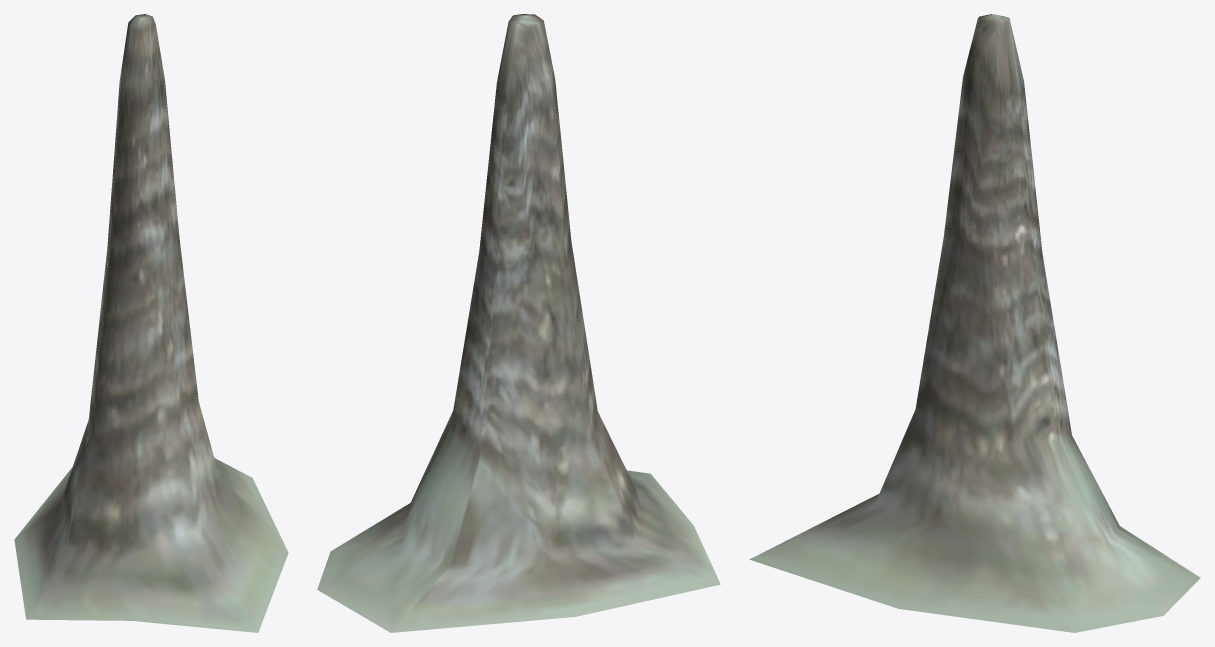
Rendered from TROLLHOLE02_PS-SECRETSTALAG20.fbx.
3 views of the same model, side by side, from view 1: azimuth 30°, elevation 25°; view 2: azimuth 150°, elevation 25°; view 3: azimuth 270°, elevation 25° (orthographic). The views are drawn at different scales.
Visible parts, largest first — view 1: TROLLHOLE02_PS-SECRETSTALAG20; view 2: TROLLHOLE02_PS-SECRETSTALAG20; view 3: TROLLHOLE02_PS-SECRETSTALAG20.
Part boxes in pixels (bbox=[...]): TROLLHOLE02_PS-SECRETSTALAG20: bbox=[14, 14, 288, 632]; TROLLHOLE02_PS-SECRETSTALAG20: bbox=[317, 14, 720, 632]; TROLLHOLE02_PS-SECRETSTALAG20: bbox=[749, 14, 1200, 632].
Bounding box in the file's own units: 21505 × 36660 × 26962.
1 material, 1 textured.
